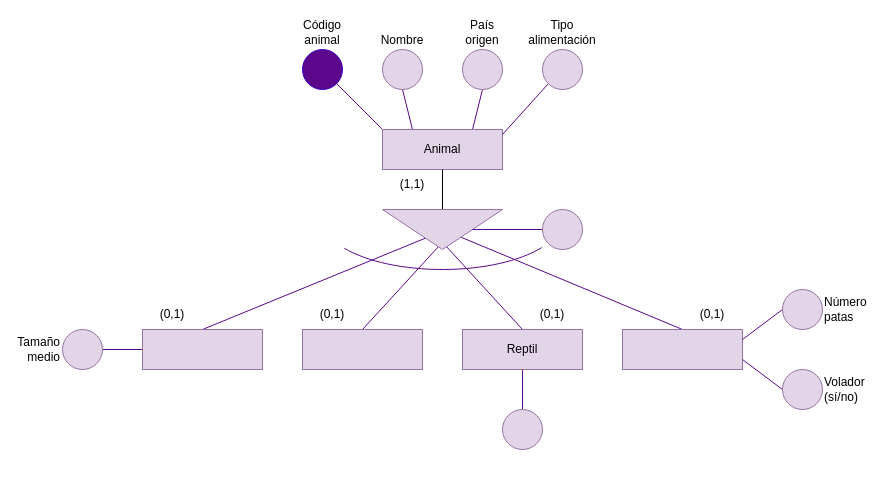
The diagram is 884 pixels wide and 502 high, and some of its shapes have lost their labels. Each missing label, with the box of its shape:
Ave: (302, 328, 422, 370)
Felino: (142, 328, 262, 370)
Insecto: (622, 328, 742, 370)
Tipo: (542, 208, 582, 250)
Venenoso (sí/no): (502, 408, 542, 450)
